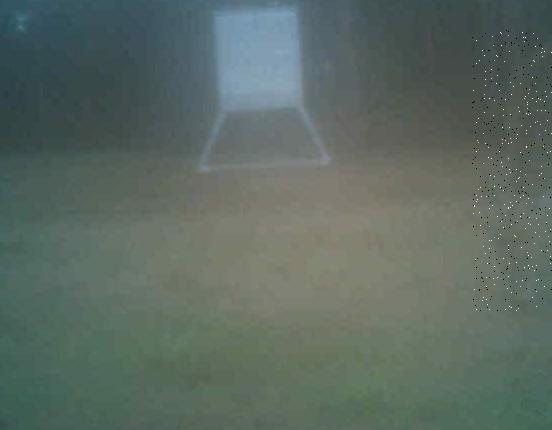Deer: (472, 29, 552, 311)
